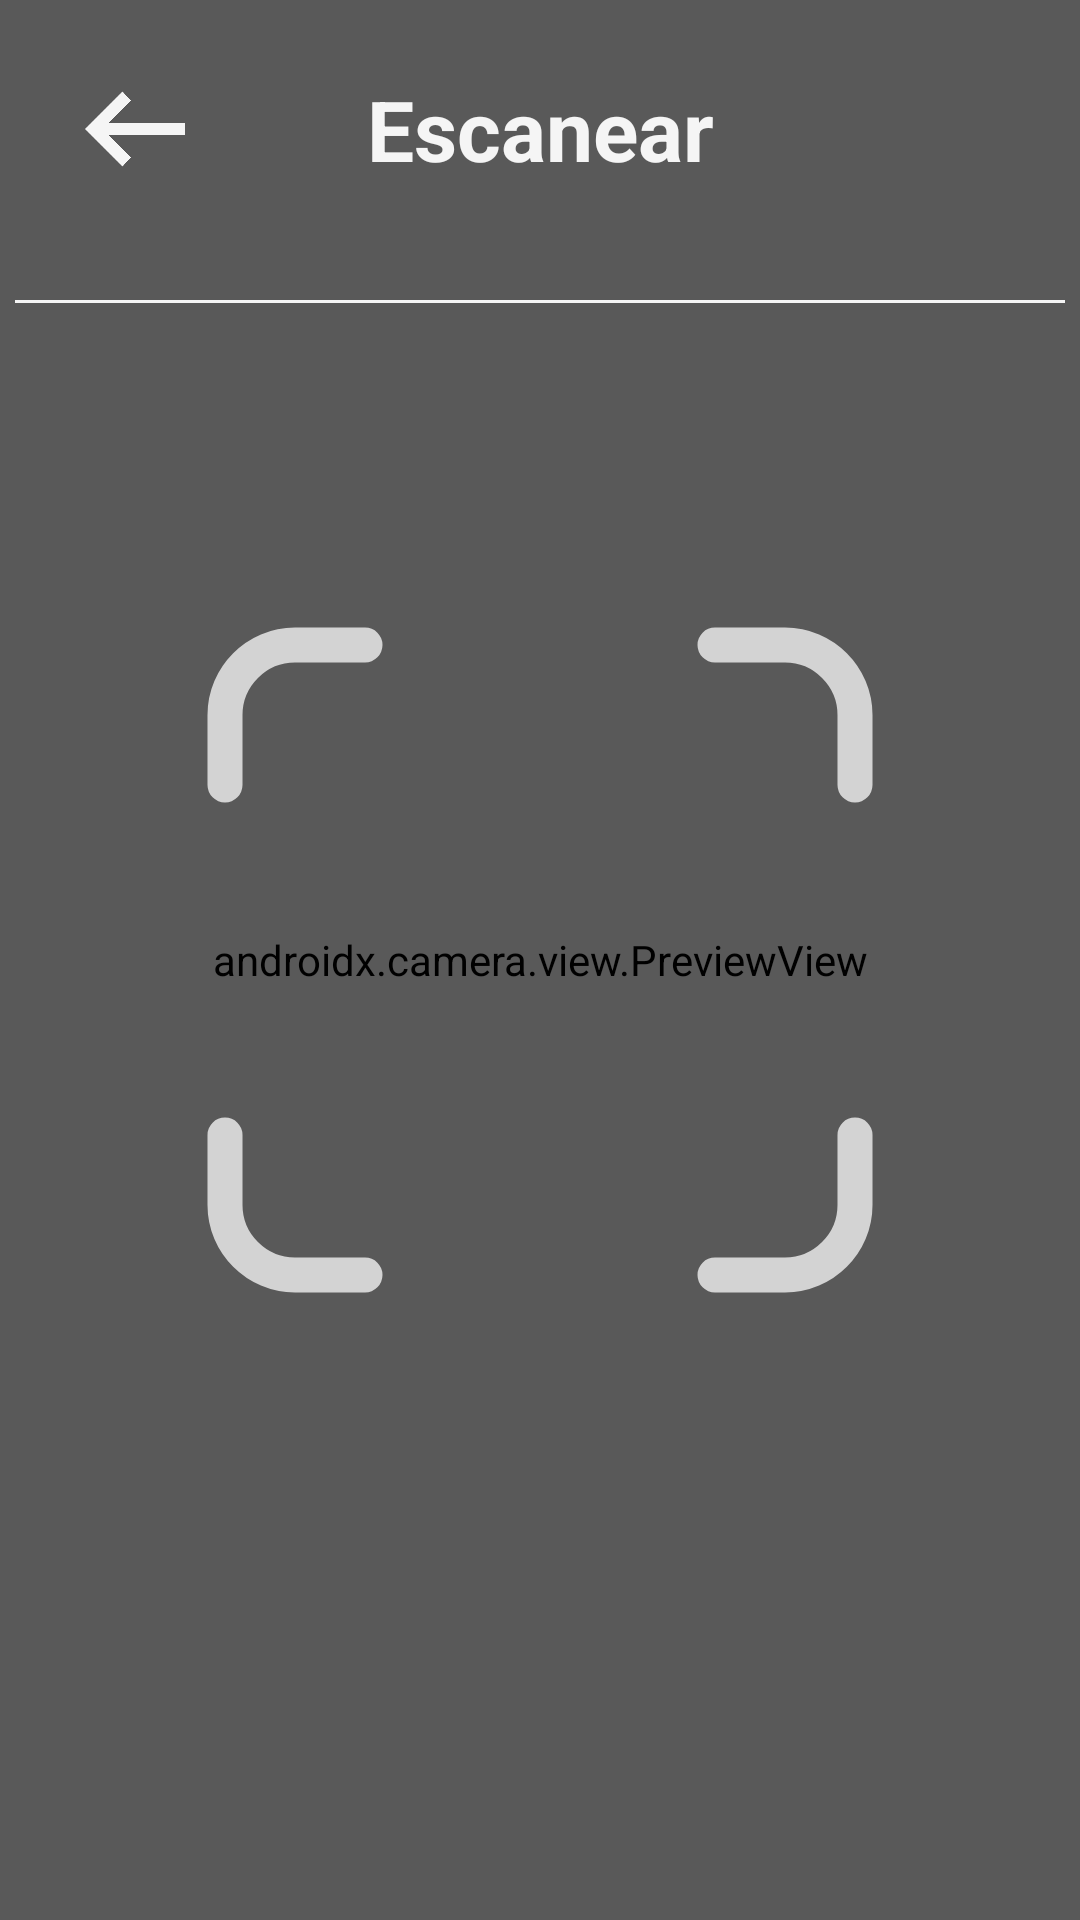

Icon bounding boxes for this 1080x1920 phone screenshot, format (x1, y1, x2, y2):
Botón de ir atrás: (85, 92, 185, 166)
